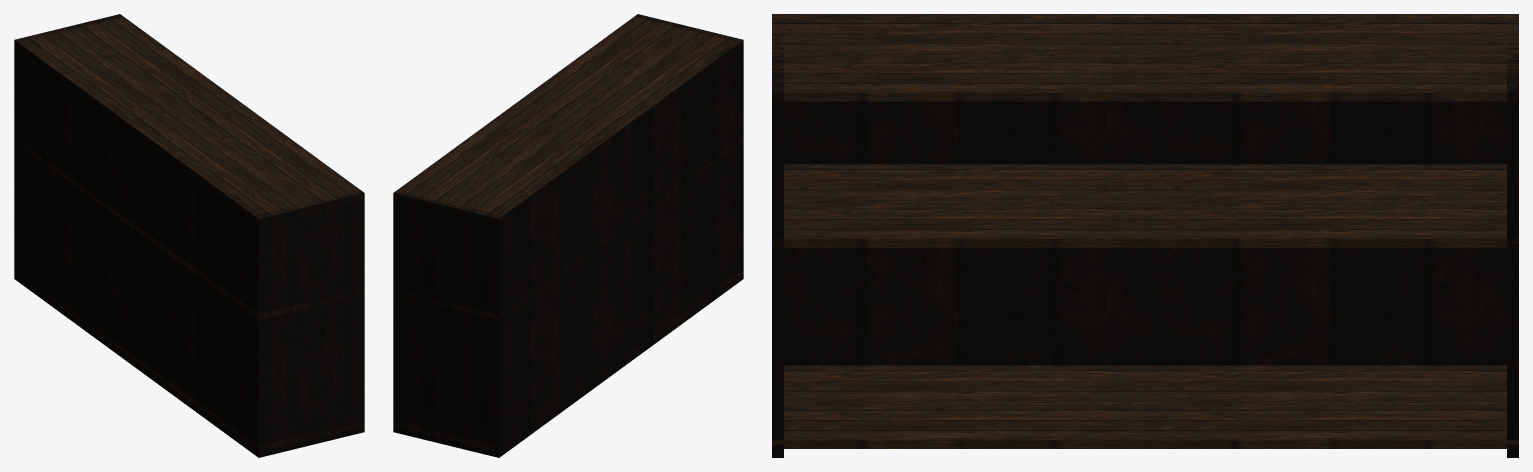
3 views of the same model, side by side, from view 1: azimuth 30°, elevation 25°; view 2: azimuth 150°, elevation 25°; view 3: azimuth 270°, elevation 25° (orthographic). The views are drawn at different scales.
Parts seen in each view (by area): view 1: fixture-C-storage-shelf; view 2: fixture-C-storage-shelf; view 3: fixture-C-storage-shelf.
Boxes of the visible parts, <box> form: fixture-C-storage-shelf: <box>14,14,364,457</box>; fixture-C-storage-shelf: <box>393,14,743,457</box>; fixture-C-storage-shelf: <box>772,14,1518,457</box>.
Size of the model in its own units: 0.95 by 2.05 by 3.8.
Materials: 2 (2 with a texture image).
